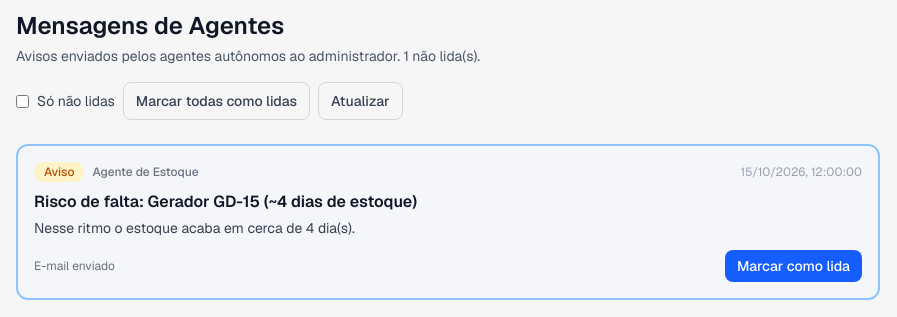
AdminMensagensPage › lista as mensagens e marca como lida
The width and height of the screenshot is (897, 317).
Expected: the heading "Risco de falta: Gerador GD-15 (~4 dias de estoque)" is shown, [34,191,417,212]
Expected: the text with test id "nao-lidas" shows "1 não lida", [404,47,477,65]
Click the button "Marcar como lida" at (793, 266), box [725,250,862,282]
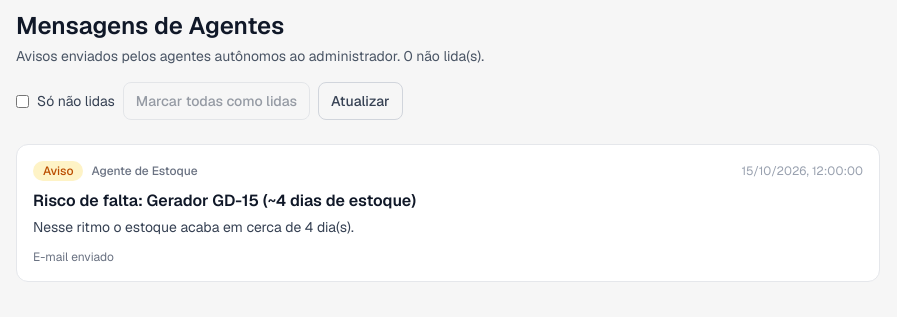
Now the button "Marcar como lida" is gone
